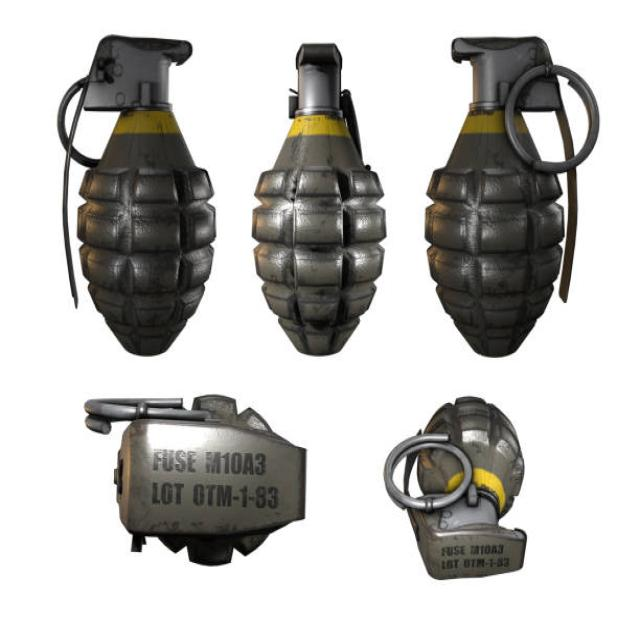grenade: (423, 27, 609, 358), (48, 33, 224, 362), (246, 38, 391, 360), (380, 386, 533, 584)
